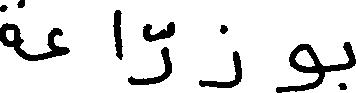X: (131, 17, 170, 89), (201, 20, 239, 92), (278, 39, 321, 92), (0, 0, 15, 55), (345, 37, 355, 92), (50, 23, 64, 62), (114, 5, 120, 64)
